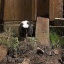skunk: (19, 21, 34, 36)
